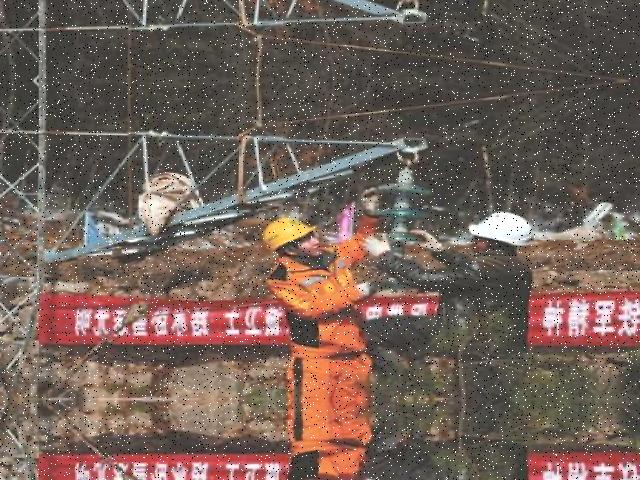Helmet: (462, 207, 541, 249), (263, 212, 324, 255)
